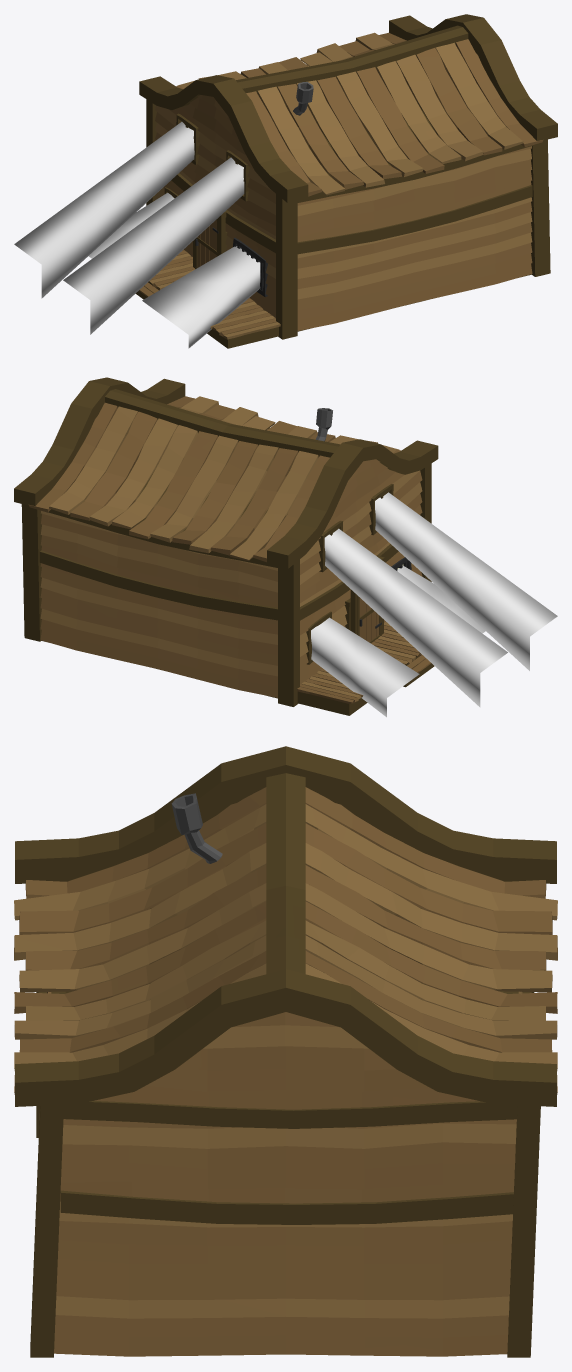
Rendered from store_001.glb.
3 renders of one model, top to bottom at view 1: azimuth 30°, elevation 25°; view 2: azimuth 150°, elevation 25°; view 3: azimuth 270°, elevation 25°, orthographic. The views are drawn at different scales.
Visible parts, largest first — view 1: Cube.009, WindowLightShafts, DoorPanel; view 2: Cube.009, WindowLightShafts, DoorPanel; view 3: Cube.009.
Part boxes in pixels (x1,y1,x2,y2): Cube.009: (135,14,557,348); WindowLightShafts: (14,122,260,348); DoorPanel: (195,218,218,268); Cube.009: (14,377,438,715); WindowLightShafts: (311,492,557,717); DoorPanel: (357,596,381,643); Cube.009: (14,746,557,1357).
Bounding box in the file's own units: 15.34 × 7.19 × 9.23.
